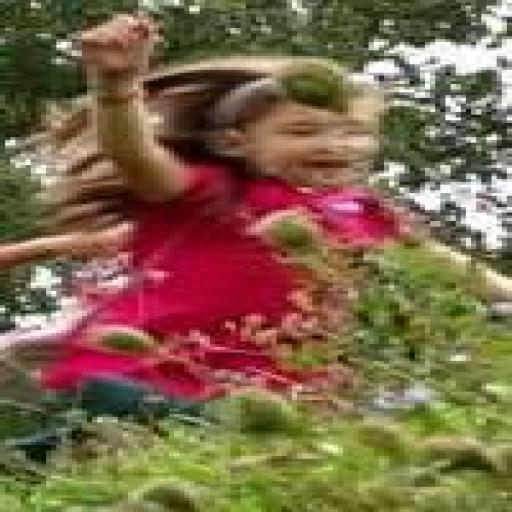person: (41, 14, 409, 402)
